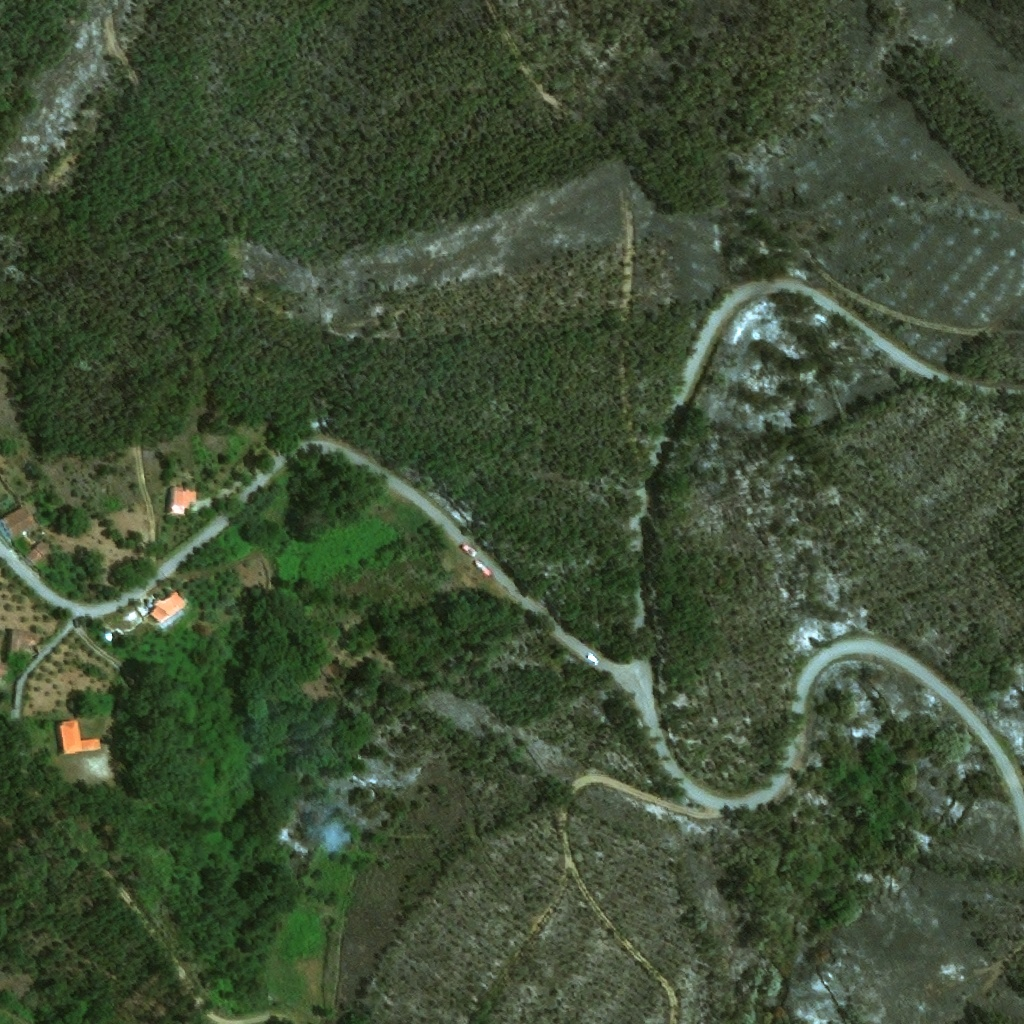0 no-damage: (55, 720, 100, 755), (149, 590, 187, 625), (0, 508, 35, 541), (9, 630, 41, 659), (168, 487, 197, 515), (24, 542, 51, 565), (0, 663, 9, 687)
